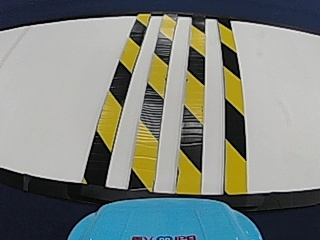bump: (81, 24, 254, 187)
